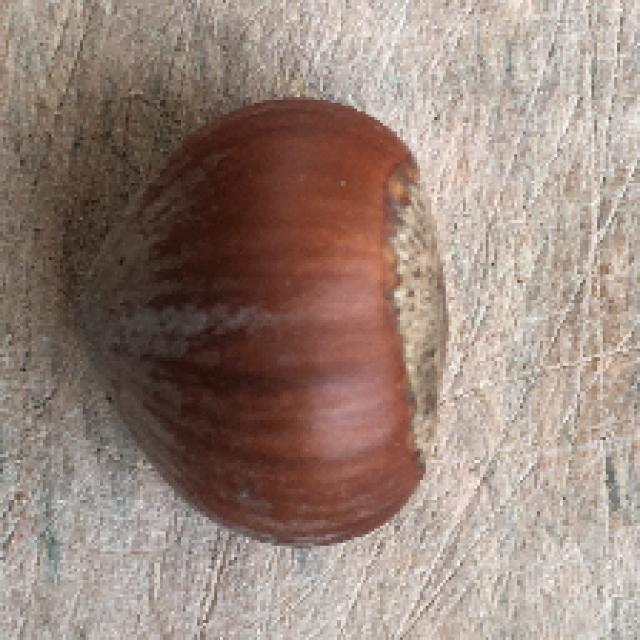qualityHazelnut: (73, 93, 456, 555)
